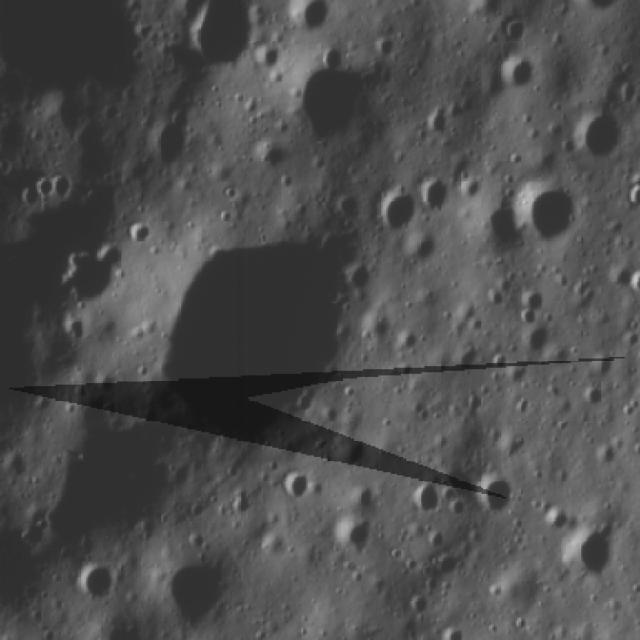crater: (150, 234, 367, 441), (286, 63, 380, 146), (508, 167, 590, 253), (186, 5, 257, 76), (163, 557, 232, 628), (563, 522, 625, 590), (61, 243, 122, 308), (576, 108, 624, 167), (470, 466, 519, 520), (476, 203, 516, 262), (331, 512, 377, 560), (380, 191, 418, 243), (407, 475, 444, 523), (78, 561, 118, 605), (497, 55, 540, 93), (282, 470, 316, 505), (316, 41, 352, 74), (423, 179, 452, 216), (541, 509, 573, 534), (348, 487, 380, 511), (124, 222, 151, 250), (502, 17, 528, 43), (17, 188, 45, 212), (49, 174, 72, 203)
